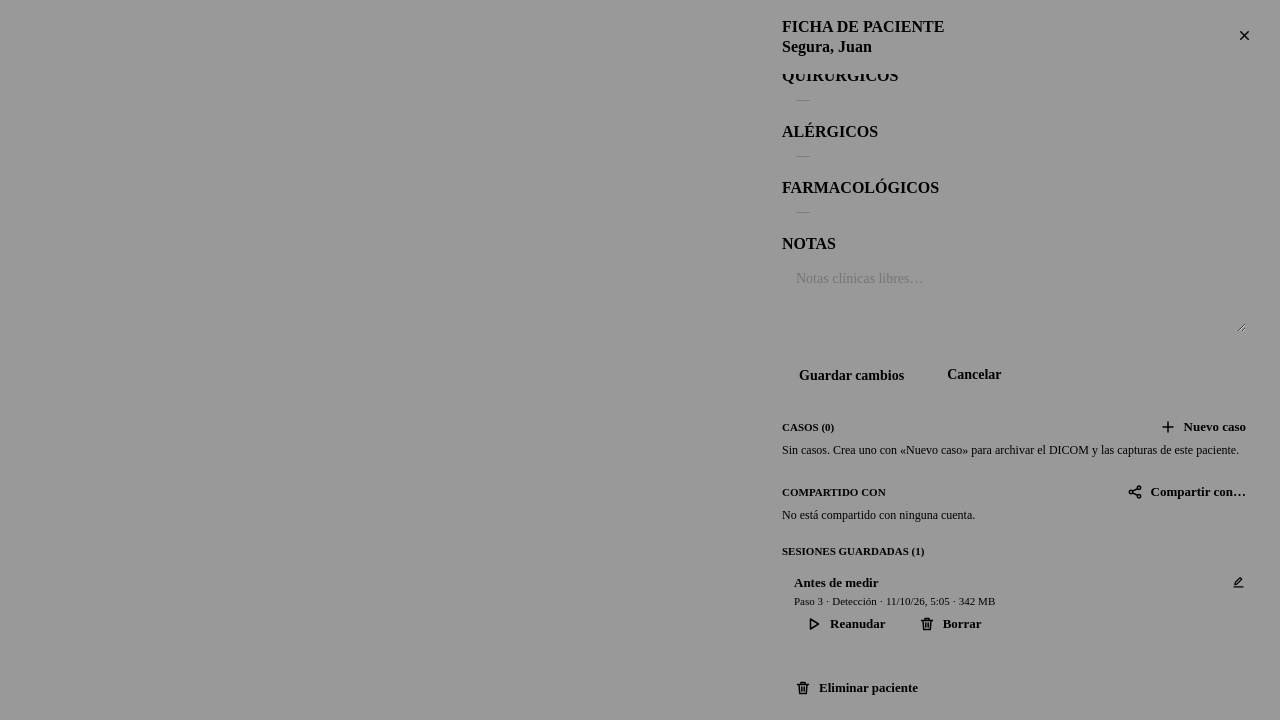
Test: sesiones guardadas (F2-30, F2-73, F2-74, F1-69) › se renombra en línea: lápiz, escribir, Intro
(page scrolled)
Click the button named "Renombrar «Antes de medir»" at (1238, 583), box [1231, 575, 1246, 590]
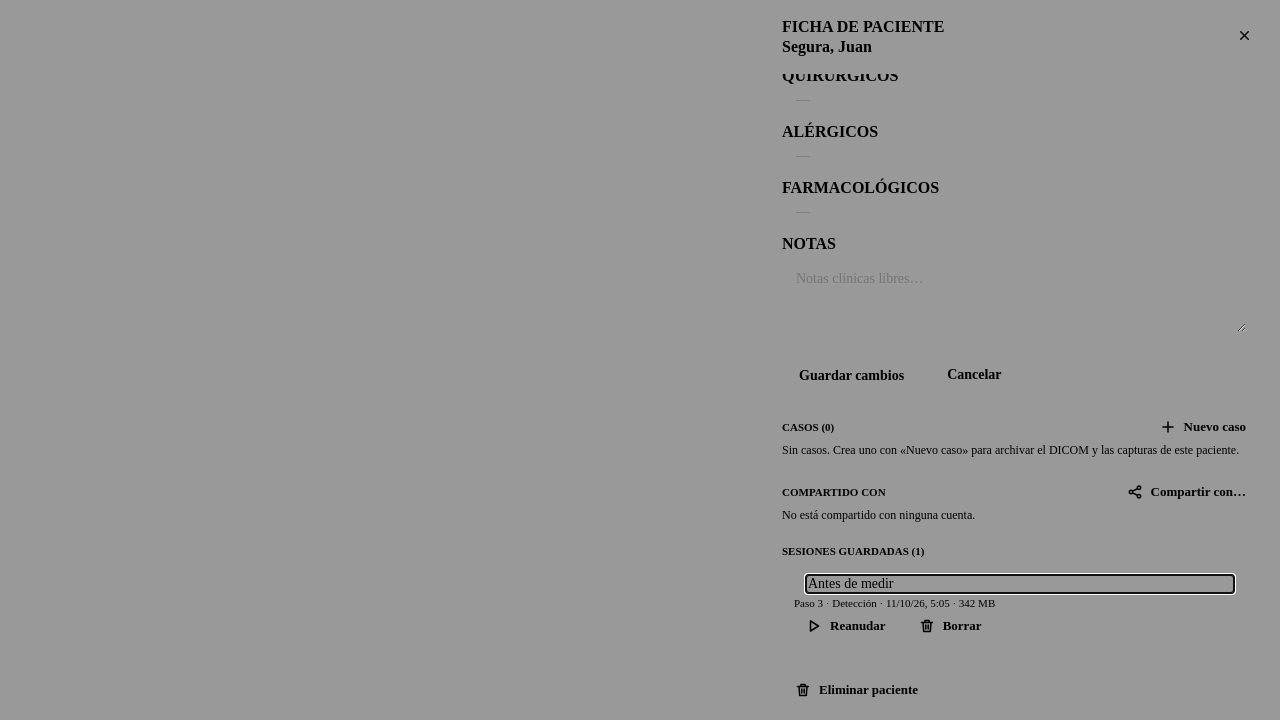
Replace the text in the field named "Nombre de la sesión guardada" with "  Con el clip elegido " at (1020, 584), box [806, 575, 1234, 593]
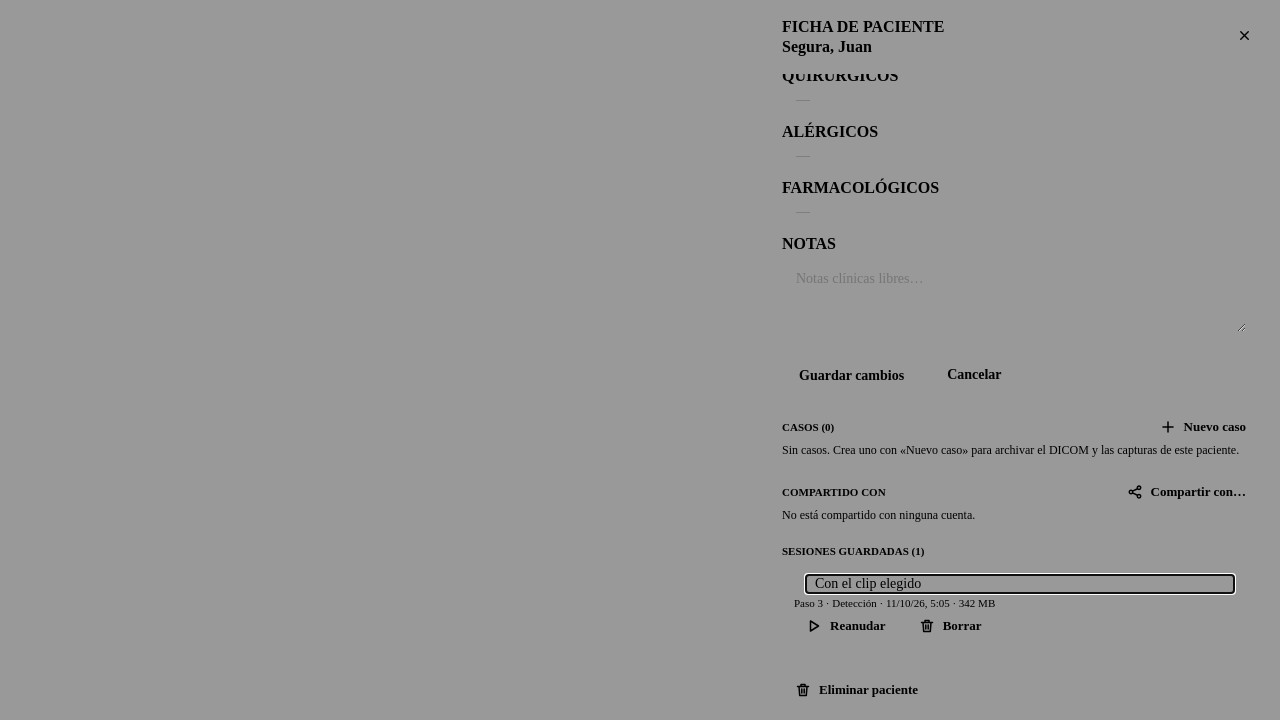
Press Enter in the field named "Nombre de la sesión guardada", box [806, 575, 1234, 593]
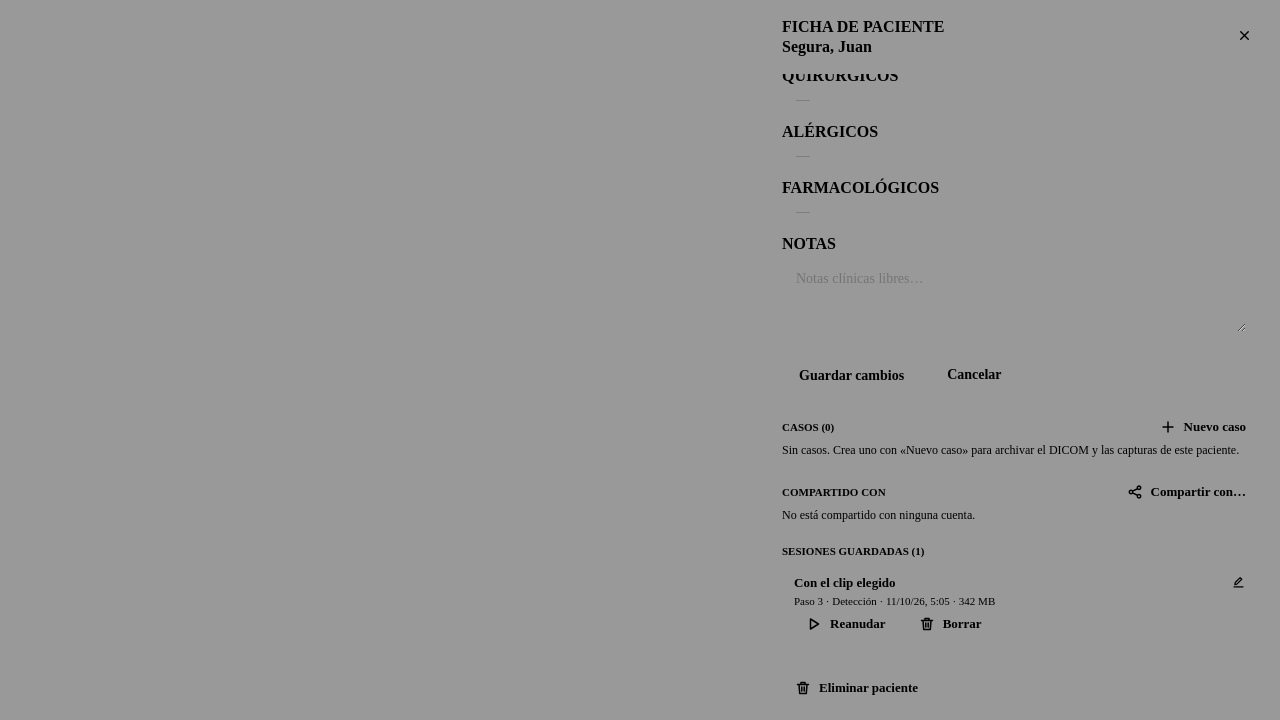
Result: the text "Con el clip elegido" is shown at [794, 575, 896, 590]
